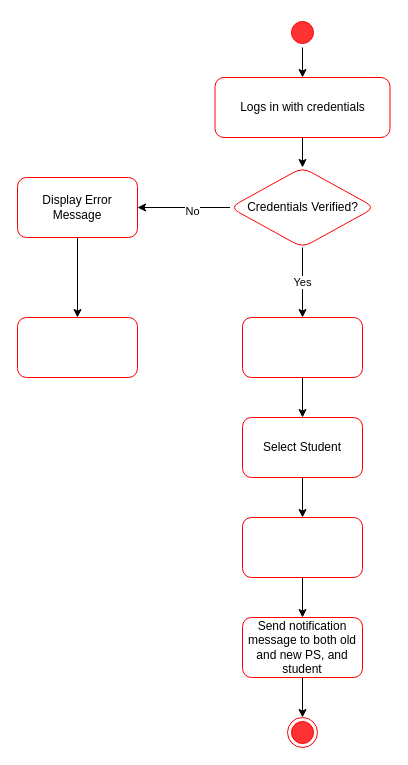
The diagram is 408 pixels wide and 765 high, and some of its shapes have lost their labels. Each missing label, with the centre of its shape:
"Assign to a different PS" goes at point (302, 547).
"Navigate to 'Student Management' Page" goes at point (302, 347).
"Re-enter Credentials" goes at point (77, 347).
